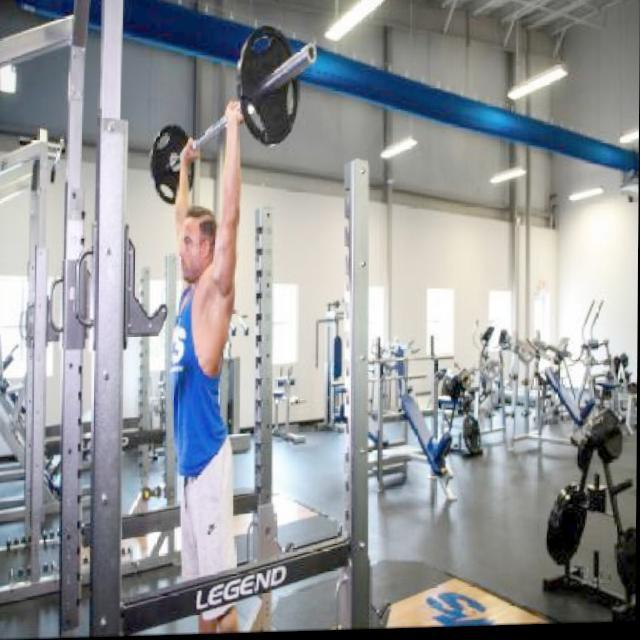barbell: (234, 23, 321, 153)
